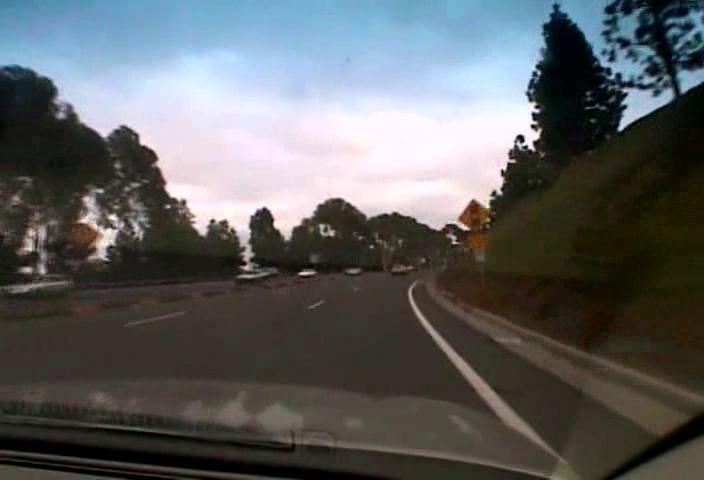signalAhead: (458, 200, 490, 231)
